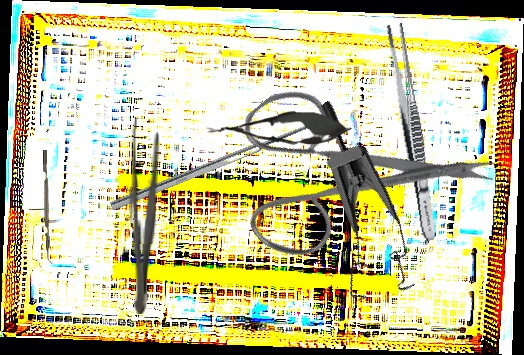Chopper: (43, 149, 54, 265)
Dressing Forceps: (382, 22, 442, 243), (125, 116, 162, 315)
Iris Scissors: (193, 11, 505, 318)
Micro Scissor: (205, 110, 352, 148)
Spatula Surgical: (106, 110, 320, 211)
Speculum: (248, 98, 450, 320)
